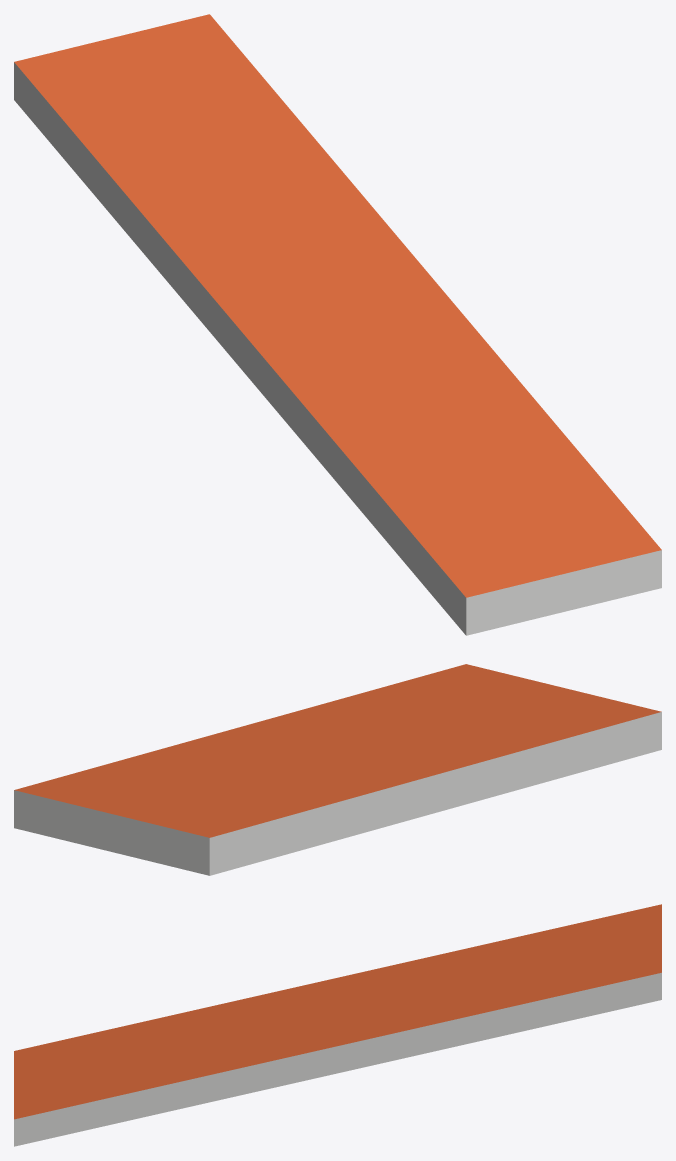
File: telhado_meia_agua_v2_i25_0_5m.glb
3 renders of one model, top to bottom at view 1: azimuth 30°, elevation 25°; view 2: azimuth 150°, elevation 25°; view 3: azimuth 270°, elevation 25°, orthographic. The views are drawn at different scales.
Visible parts, largest first — view 1: telhado_meia_agua_v2_i25_0_5m; view 2: telhado_meia_agua_v2_i25_0_5m; view 3: telhado_meia_agua_v2_i25_0_5m.
Boxes of the visible parts, <box> form: telhado_meia_agua_v2_i25_0_5m: <box>14,14,661,635</box>; telhado_meia_agua_v2_i25_0_5m: <box>14,664,661,875</box>; telhado_meia_agua_v2_i25_0_5m: <box>14,904,661,1146</box>.
Bounding box in the file's own units: 0.5 × 0.5928 × 2.
